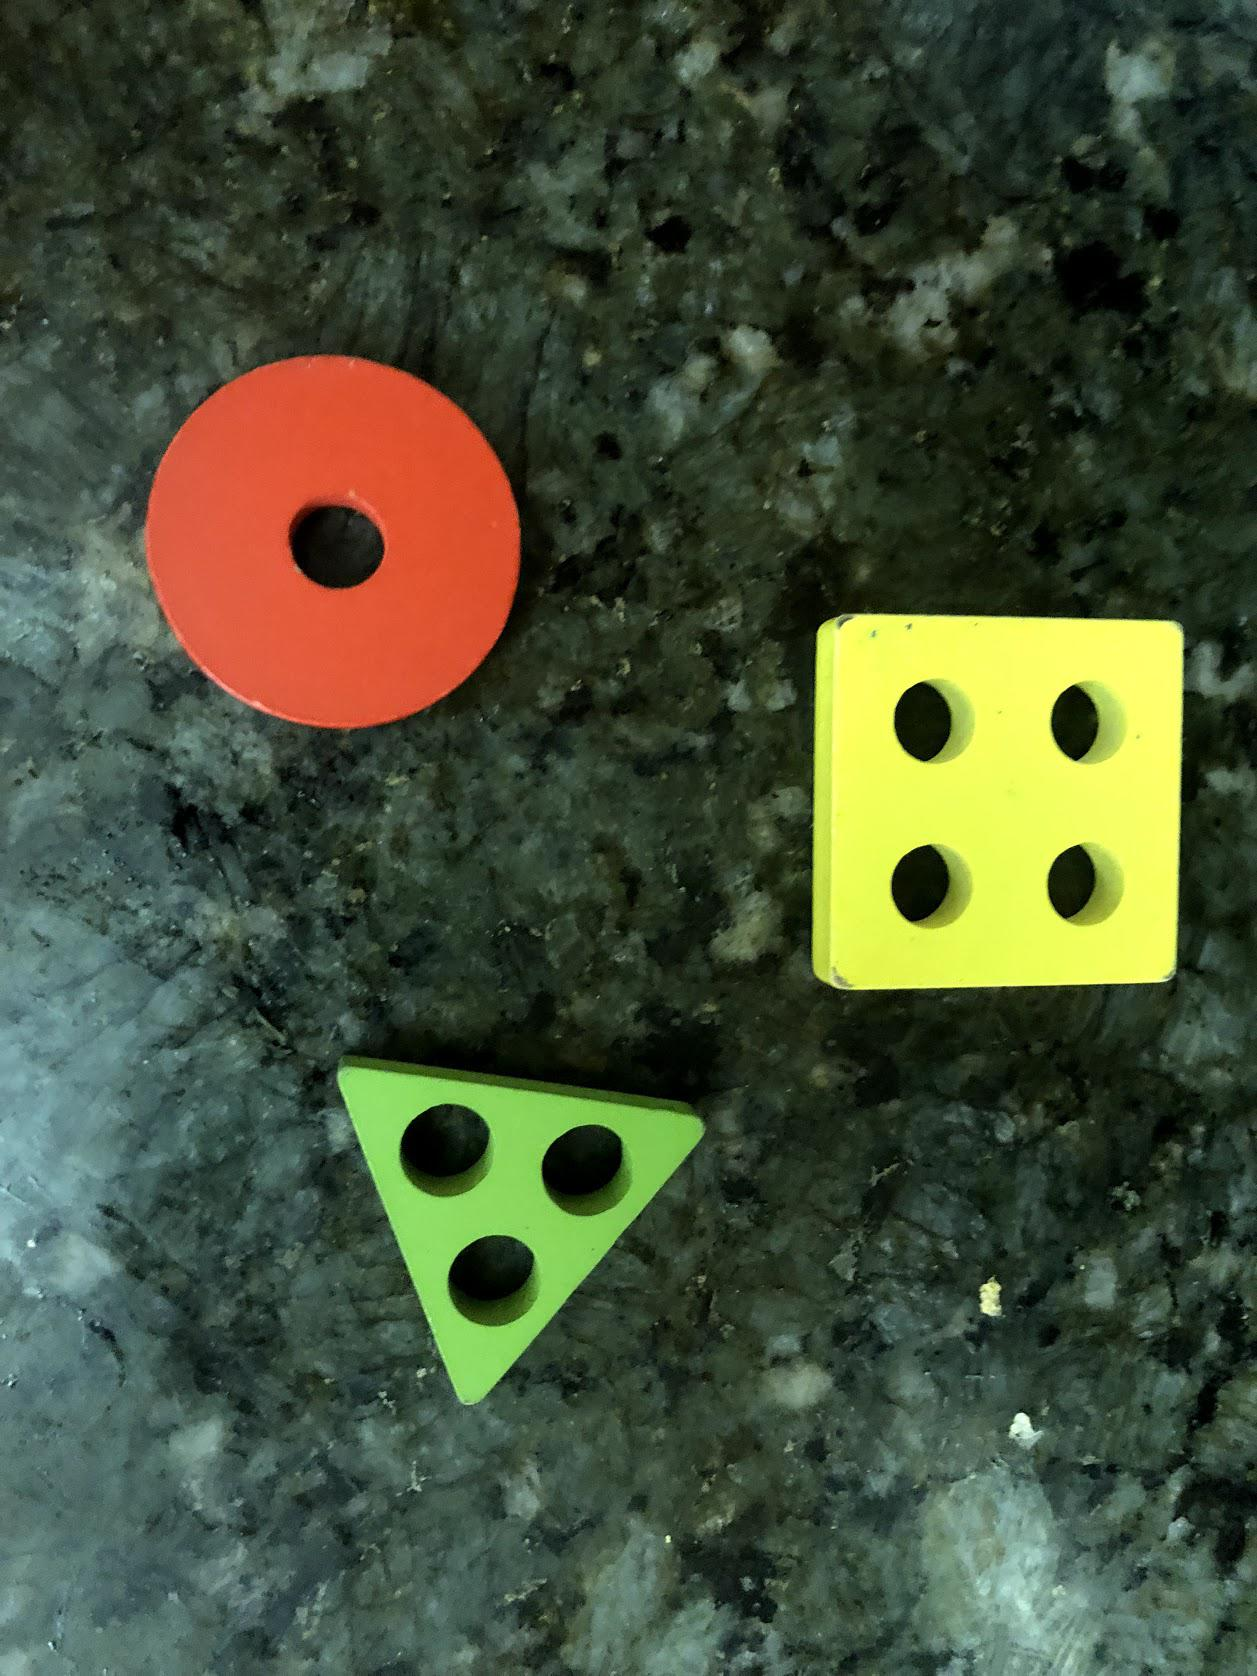Circle: (141, 348, 531, 731)
Square: (820, 616, 1183, 988)
Triangle: (335, 1061, 721, 1405)
